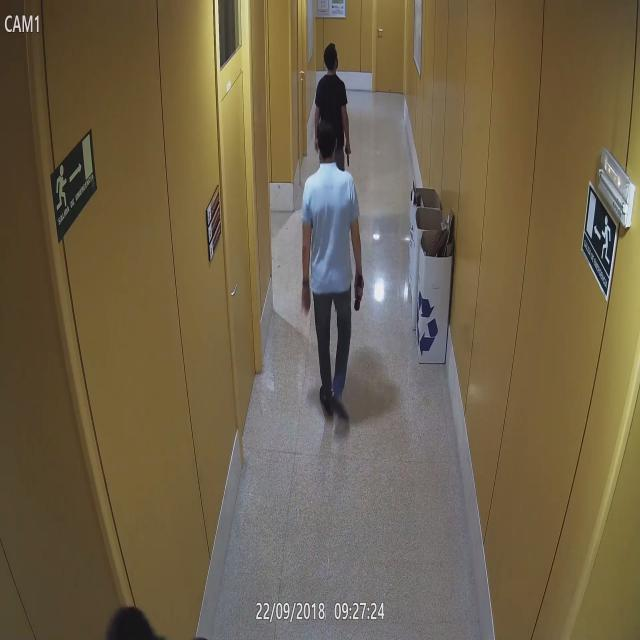Gun: (343, 138, 352, 166)
